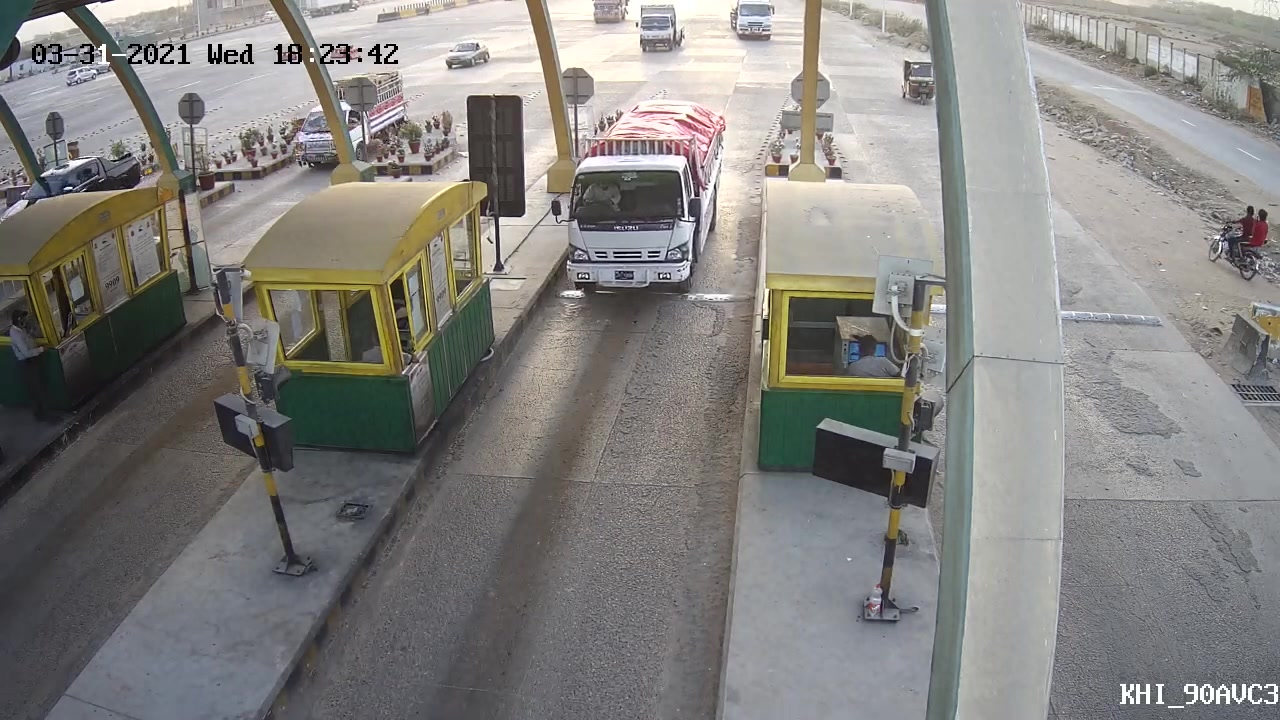F5: (543, 96, 732, 297)
